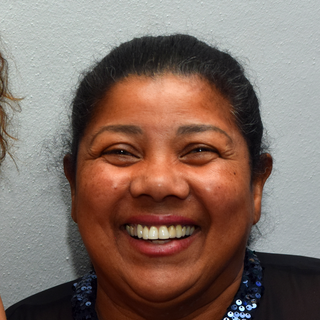eye: (96, 141, 143, 165), (177, 139, 224, 163)
